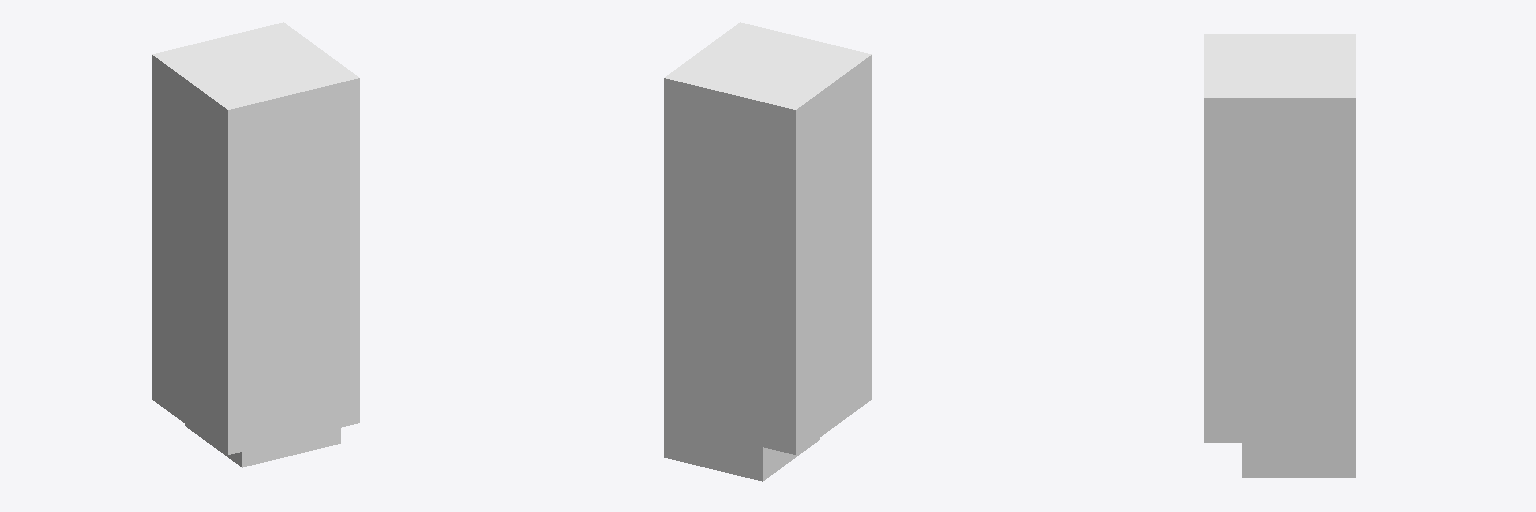
Rendered from a792_BasicGuard_Thigh_R.obj.
3 views of the same model, side by side, from view 1: azimuth 30°, elevation 25°; view 2: azimuth 150°, elevation 25°; view 3: azimuth 270°, elevation 25° (orthographic).
Bounding box in the file's own units: 4 × 11 × 4.